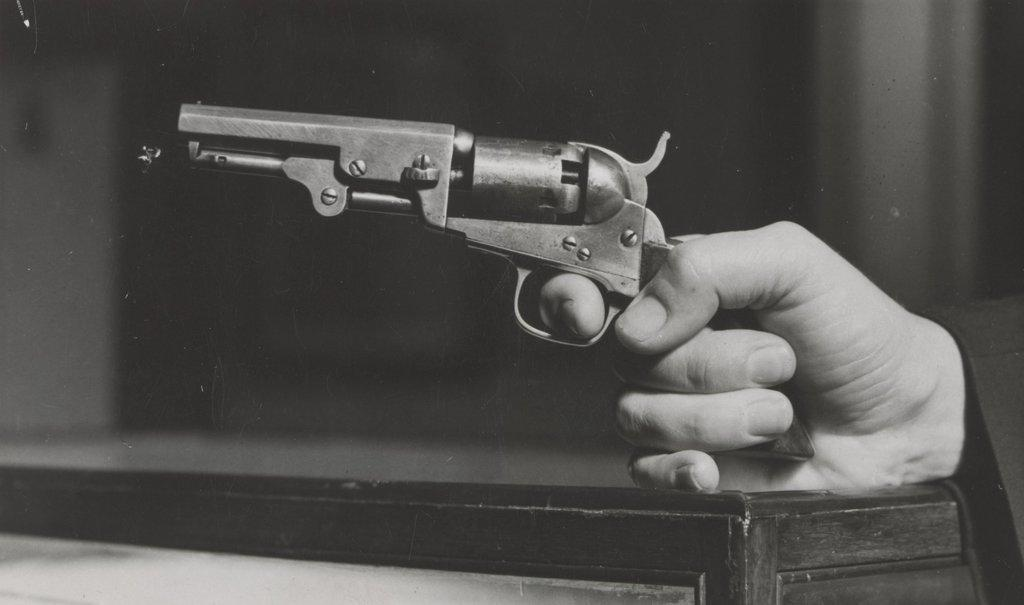Shotgun: (178, 101, 814, 462)
